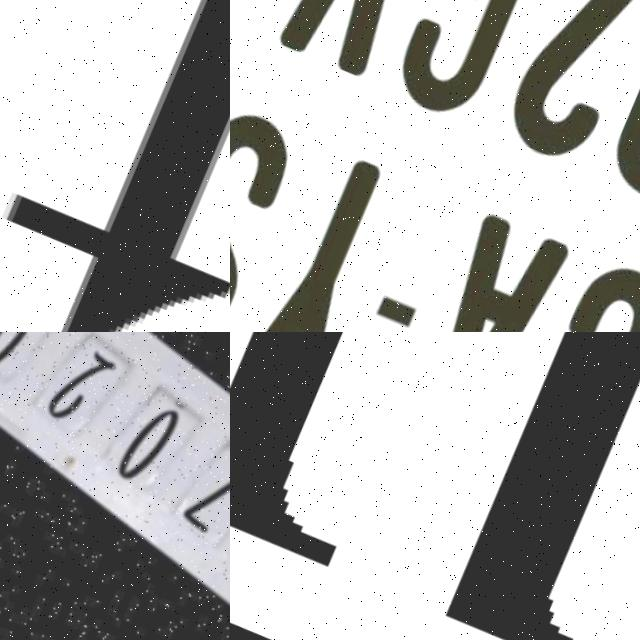0: (80, 388, 207, 526), (0, 332, 70, 411)
2: (478, 0, 640, 185), (13, 332, 135, 463)
7: (148, 439, 230, 575)
A: (352, 208, 578, 332)
C: (472, 253, 640, 332)
D: (572, 0, 640, 231)
G: (370, 0, 587, 139)
S: (230, 92, 315, 332)
T: (0, 0, 230, 332)
U: (230, 332, 640, 640)
V: (263, 0, 483, 90)
Y: (230, 136, 420, 332)
